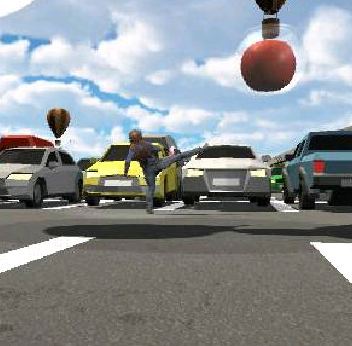turn_right: (123, 128, 205, 216)
